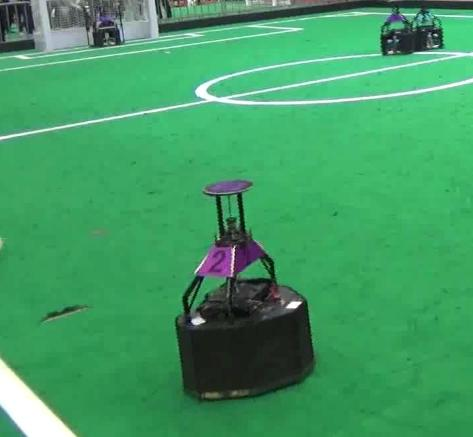robot: (168, 175, 322, 404)
